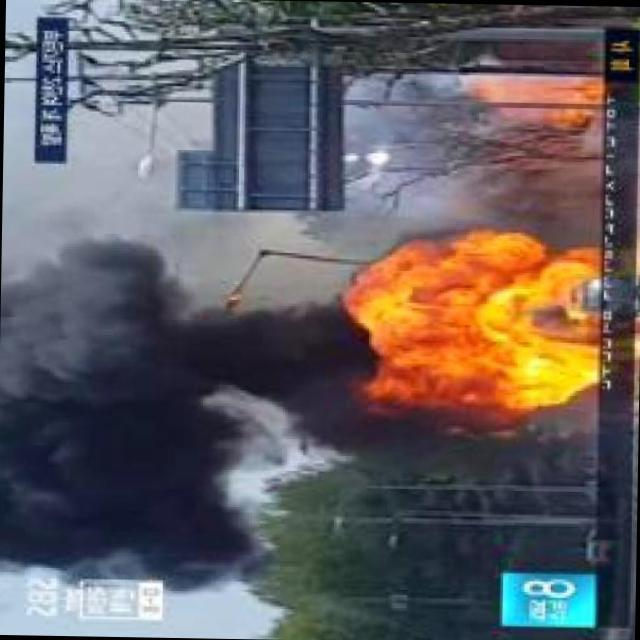Fire: (360, 239, 609, 411)
